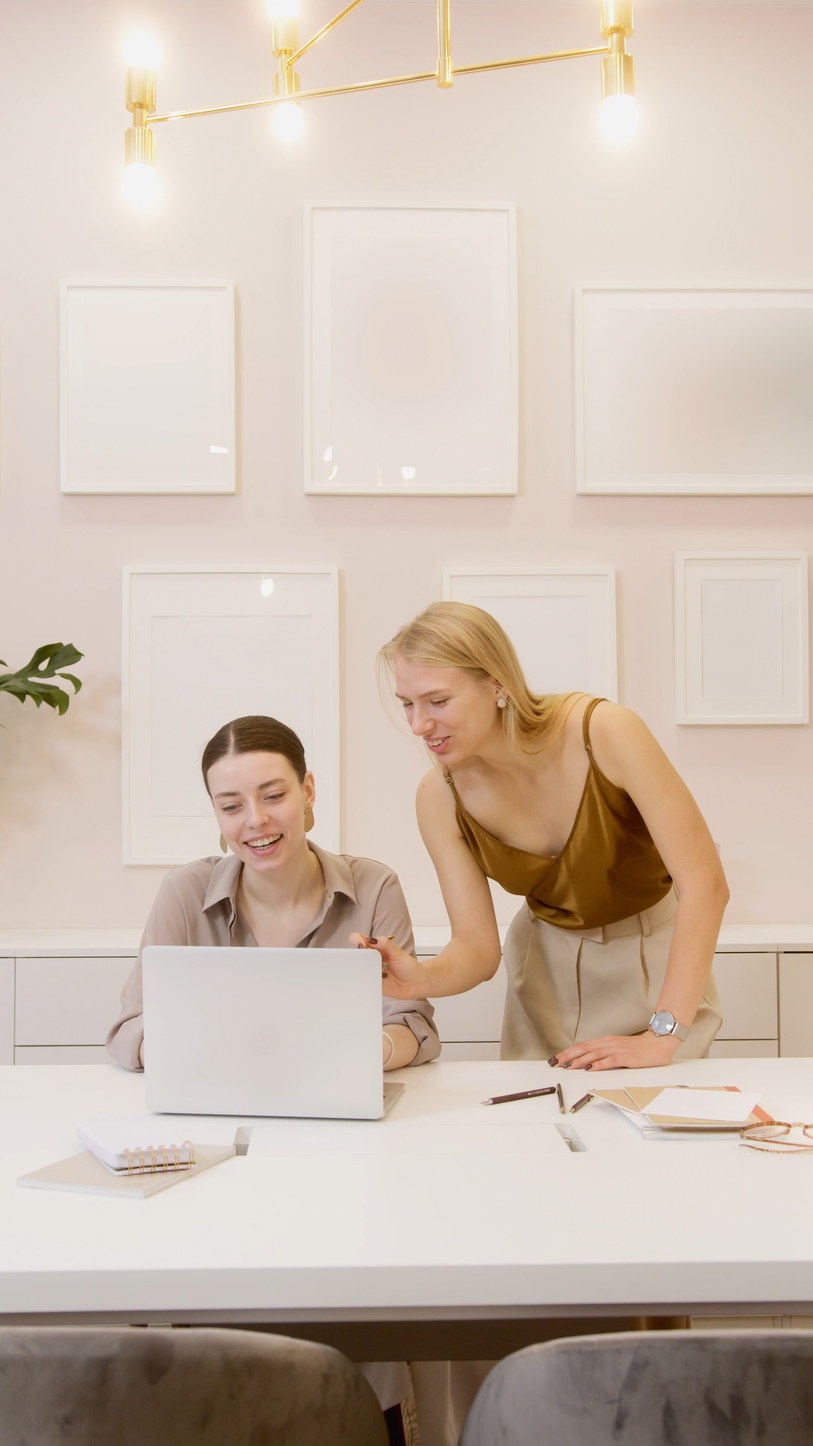No-gloves: (546, 1007, 692, 1077)
